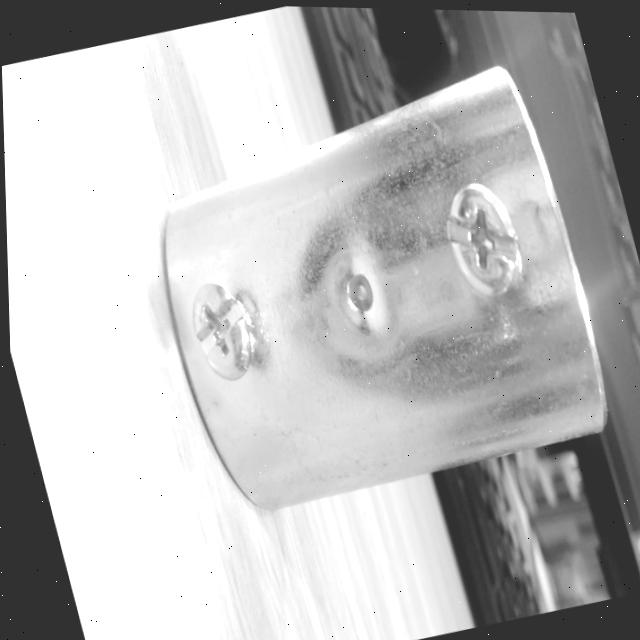Co_Nho: (128, 62, 619, 534)
